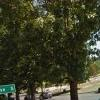Tree: (34, 1, 93, 88)
